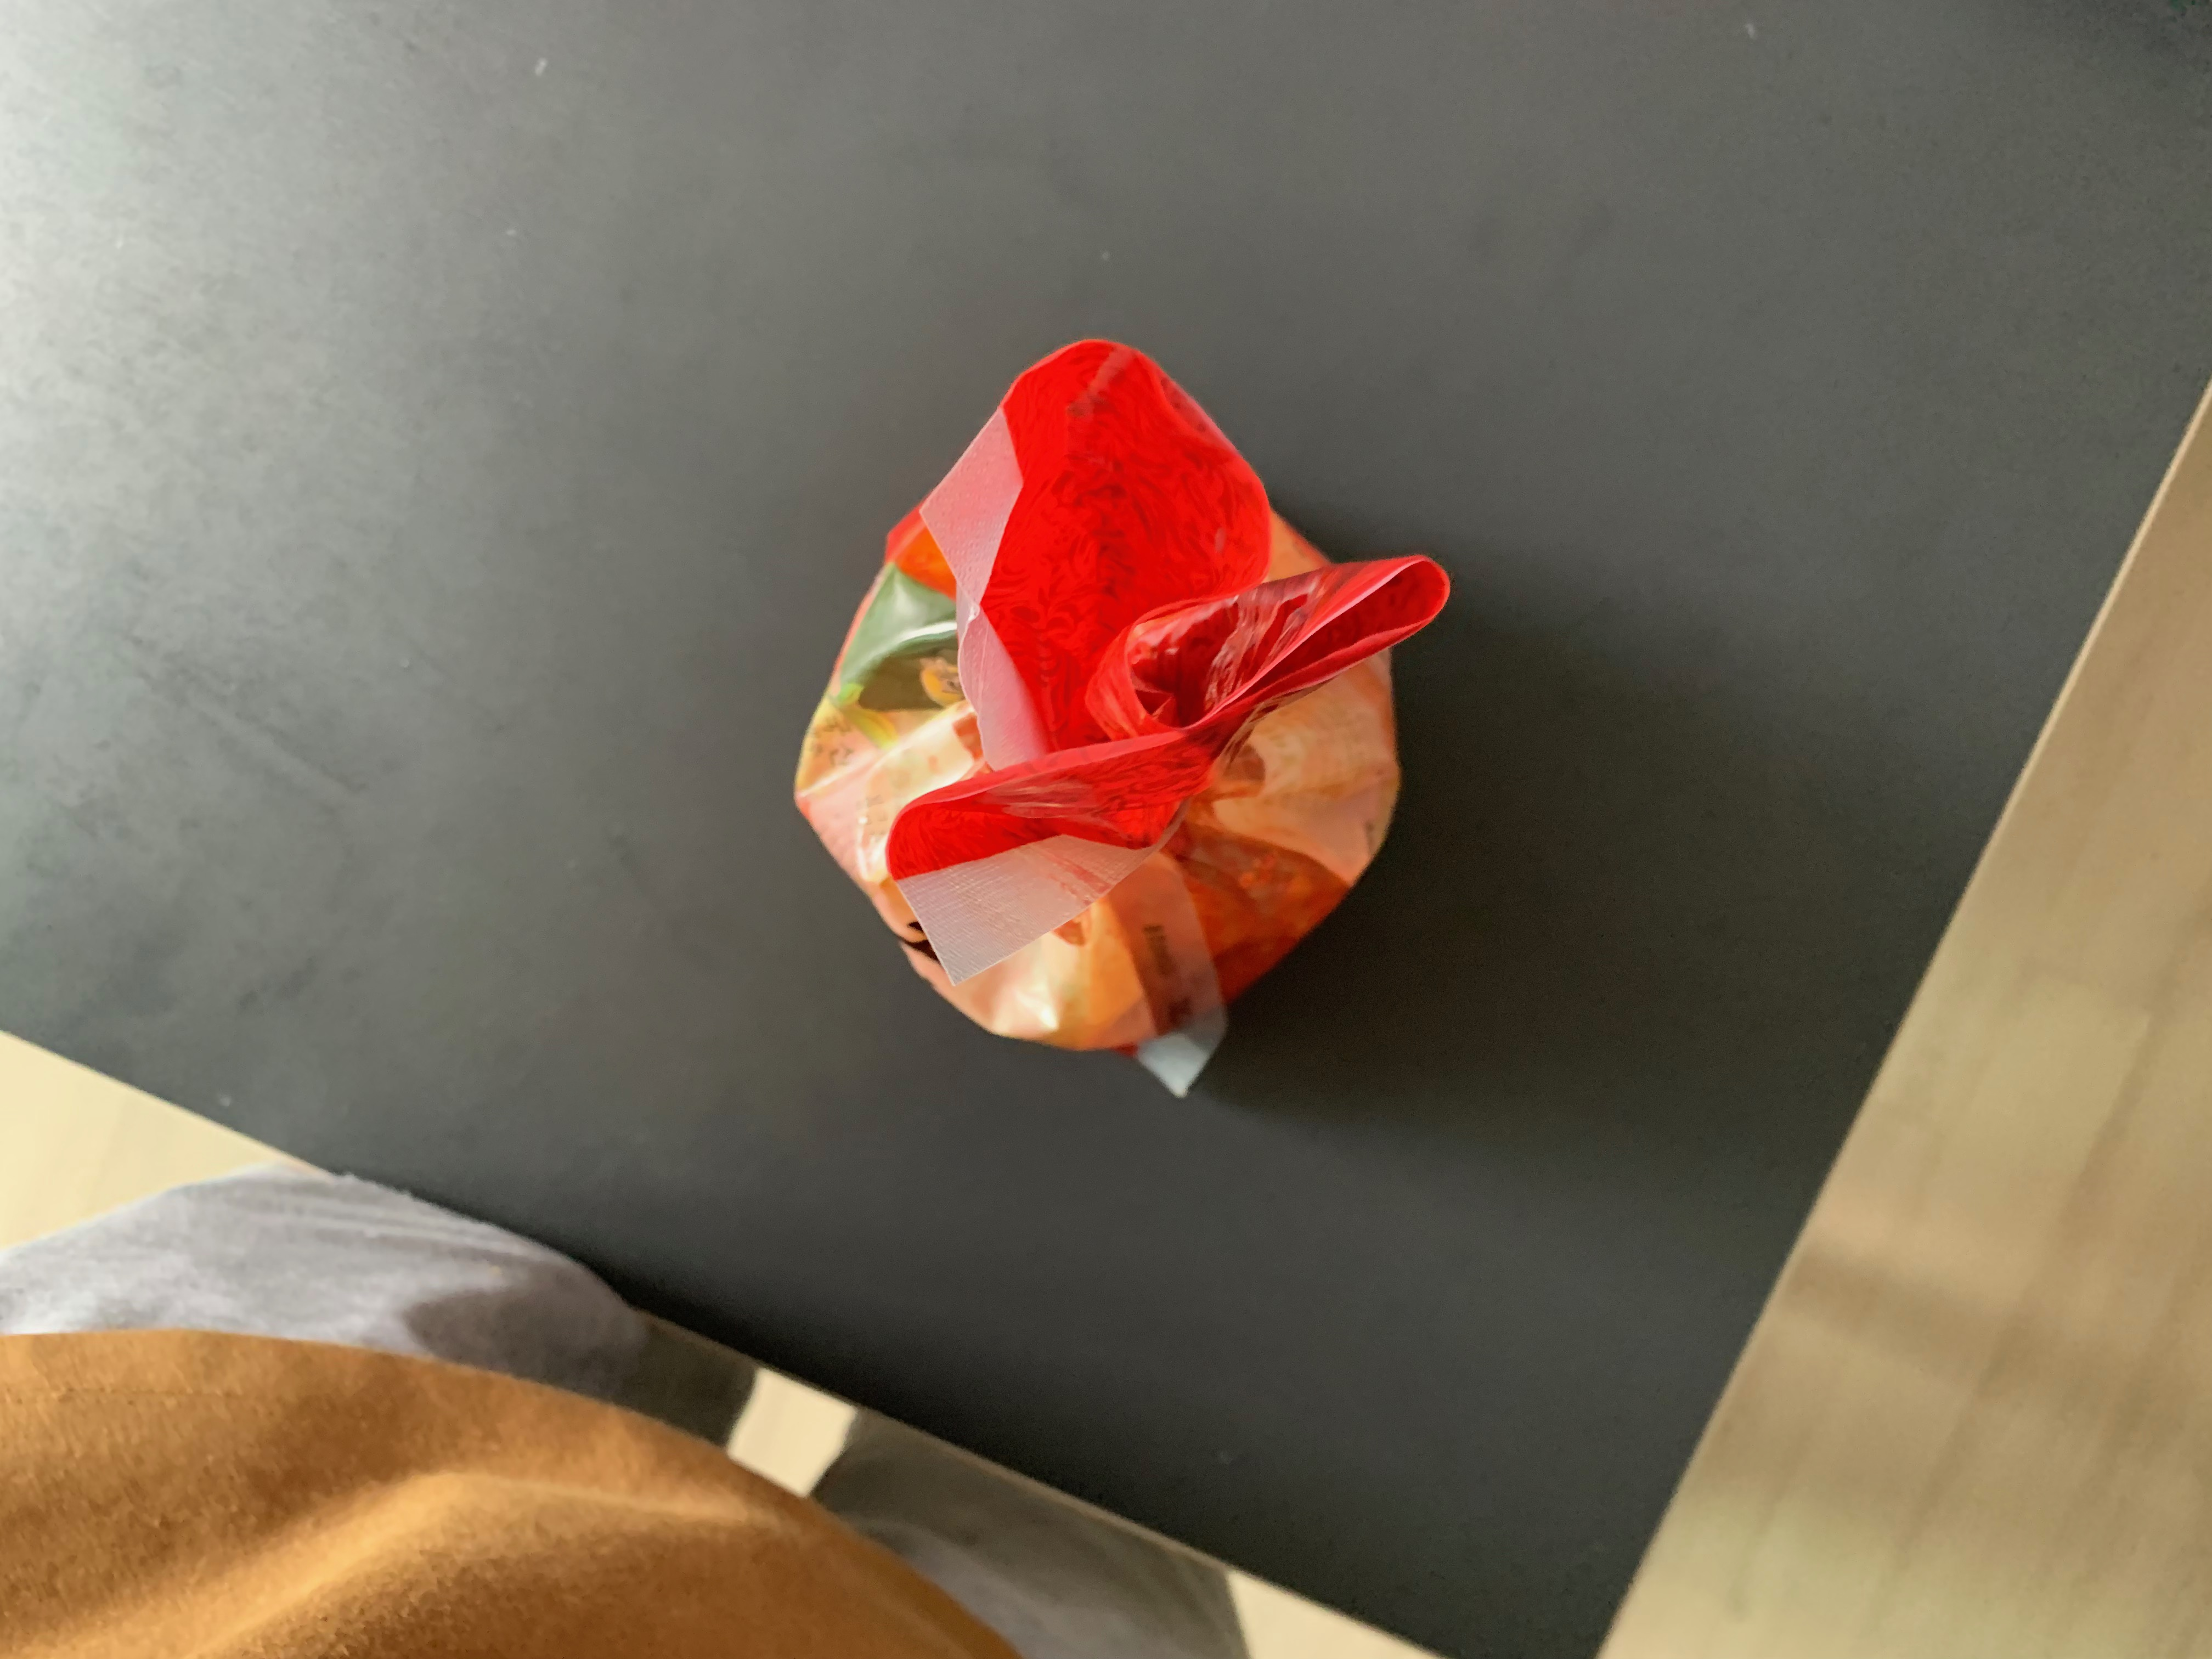kimchi: (792, 340, 1451, 1051)
